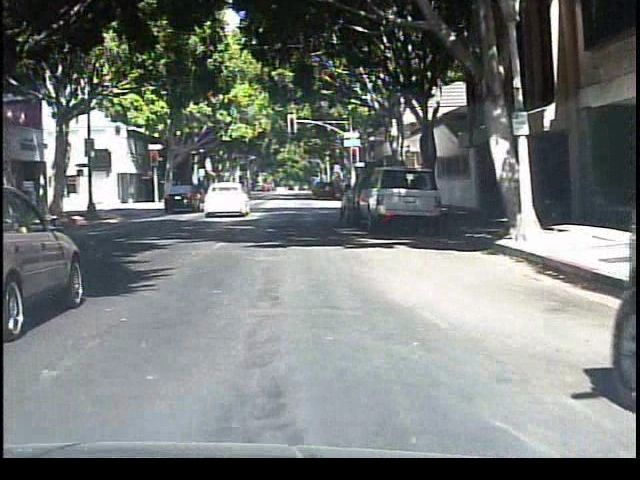person: (200, 170, 223, 213)
